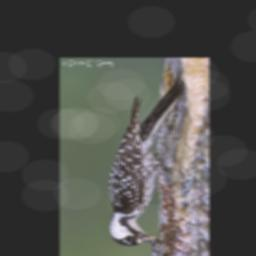Woodpecker: (107, 75, 183, 246)
